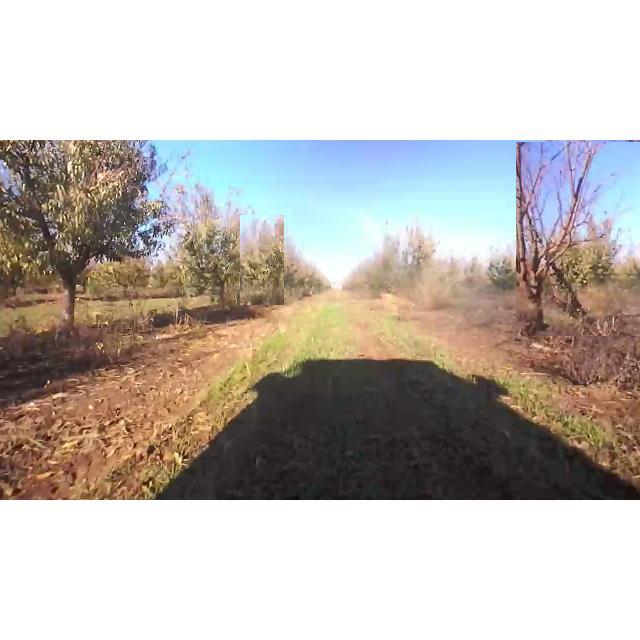direk: (0, 142, 164, 338), (516, 142, 640, 336), (172, 190, 260, 312), (386, 212, 444, 288), (240, 215, 284, 305)
